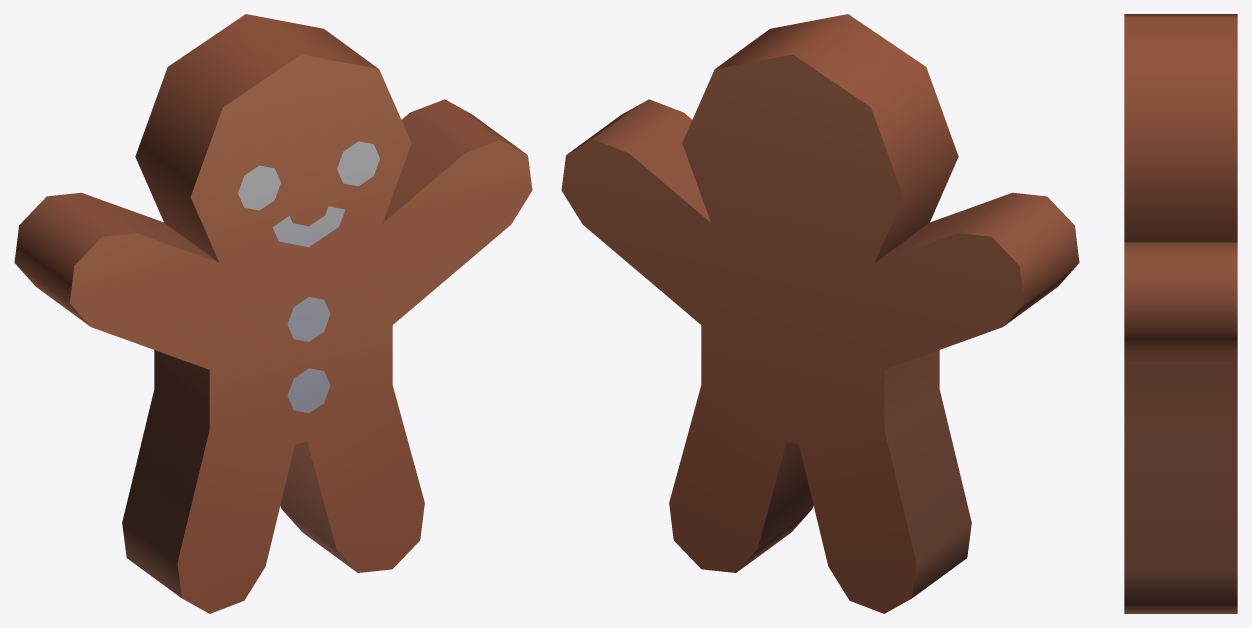
The model's file is gingerbread-man.glb.
3 views of the same model, side by side, from view 1: azimuth 30°, elevation 25°; view 2: azimuth 150°, elevation 25°; view 3: azimuth 270°, elevation 25° (orthographic). The views are drawn at different scales.
Visible parts, largest first — view 1: gingerbread-man; view 2: gingerbread-man; view 3: gingerbread-man.
Boxes of the visible parts, bbox=[...] form: gingerbread-man: bbox=[14, 14, 532, 613]; gingerbread-man: bbox=[561, 14, 1079, 613]; gingerbread-man: bbox=[1124, 14, 1237, 613].
Size of the model in its own units: 0.3393 by 0.3764 by 0.0802.
